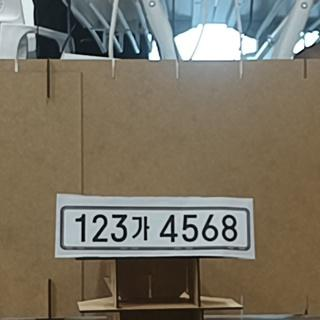normal: (59, 205, 249, 249)
